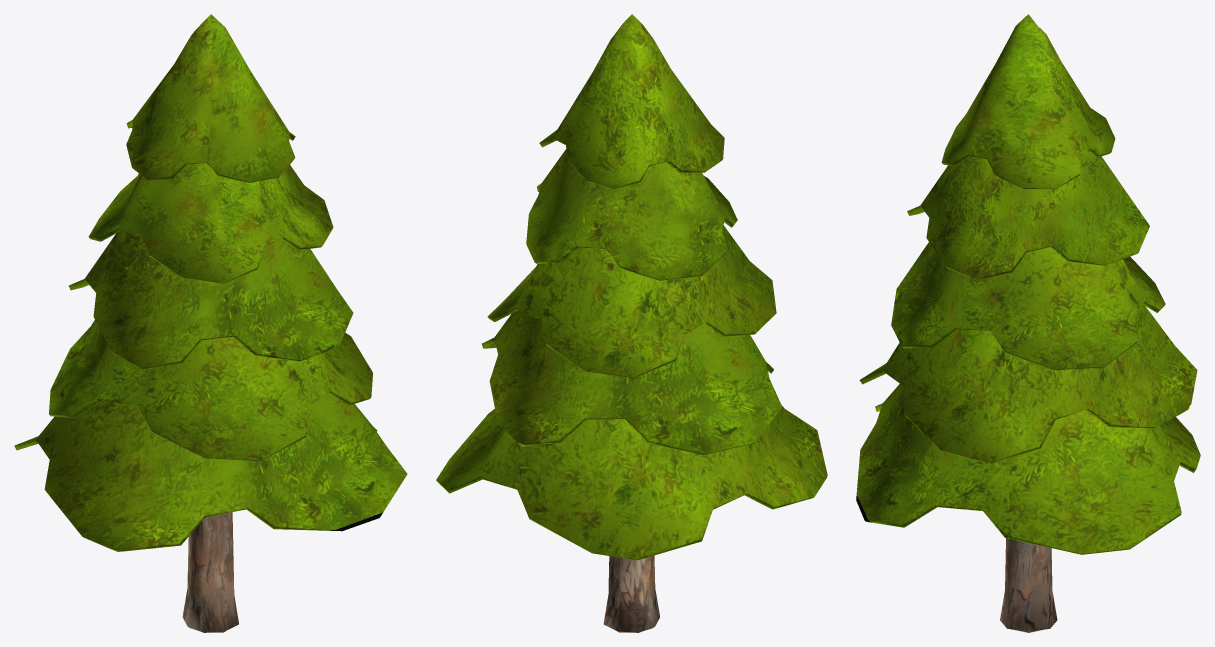
Rendered from Pine_tree.fbx.
The picture shows the model from 3 angles, left to right: view 1: azimuth 30°, elevation 25°; view 2: azimuth 150°, elevation 25°; view 3: azimuth 270°, elevation 25°; orthographic projection.
Parts seen in each view (by area): view 1: Pine; view 2: Pine; view 3: Pine.
Boxes of the visible parts, box(x1,y1,x2,y2) form: Pine: box(14, 14, 407, 632); Pine: box(436, 14, 827, 632); Pine: box(856, 14, 1200, 632).
Bounding box in the file's own units: 260 × 485 × 249.
